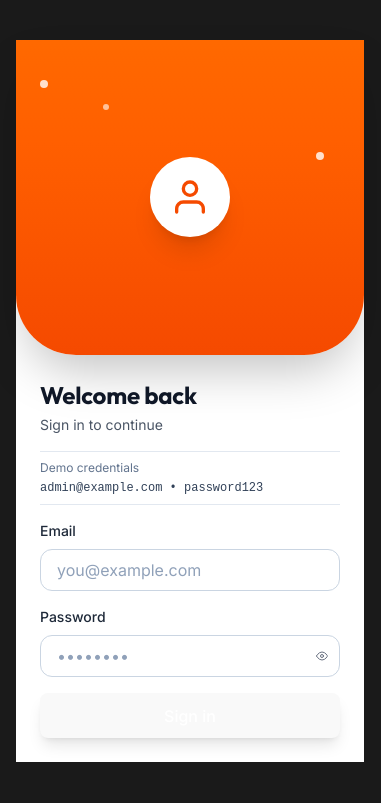
Login Component › shows validation error for password shorter than 6 characters
Type "12345" into the password field labelled "Password".
click(190, 656); type("12345")  # box x1=40 y1=635 x2=340 y2=677
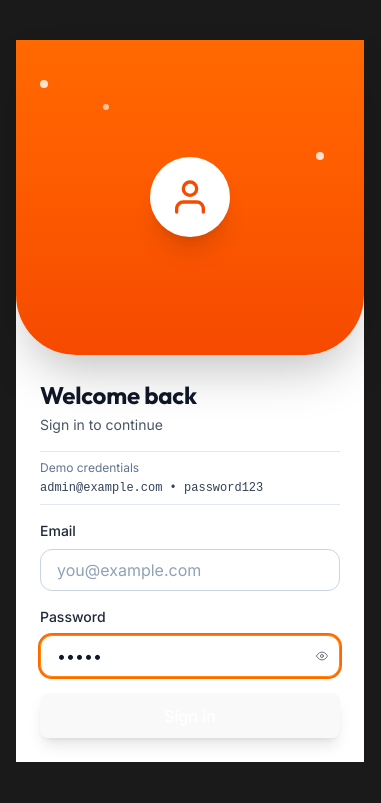
Click the button "Sign in".
click(190, 716)  # box x1=40 y1=693 x2=340 y2=738
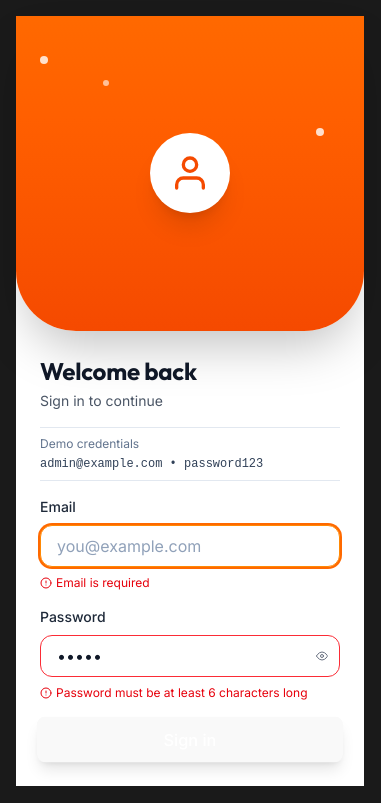
Result: the text "Password must be at least 6 characters long" is shown at x1=56 y1=685 x2=308 y2=701
